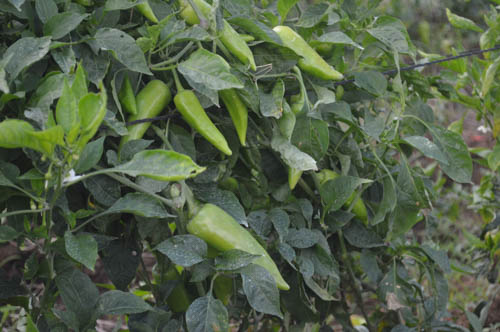ChiliPepper: (188, 204, 293, 286), (183, 6, 260, 65), (175, 92, 233, 156), (272, 28, 347, 77), (115, 81, 172, 137), (320, 172, 370, 219), (286, 104, 312, 193), (221, 91, 251, 144)
